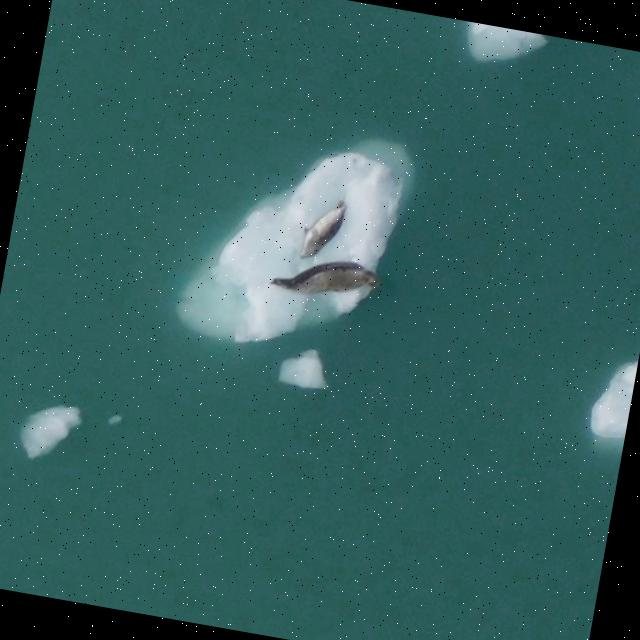seal: (268, 259, 379, 296), (301, 201, 344, 256)
